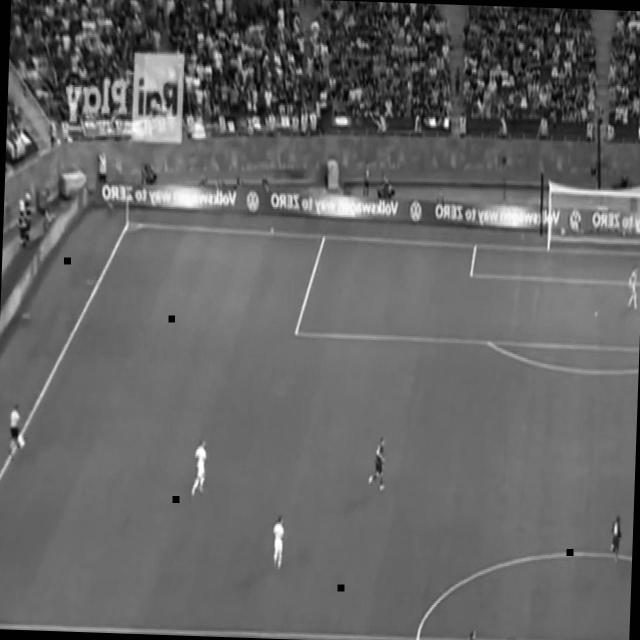player-white: (188, 434, 210, 507), (367, 434, 388, 496), (5, 399, 24, 467), (269, 510, 288, 576), (608, 511, 624, 562), (626, 260, 640, 314), (464, 625, 482, 640)
